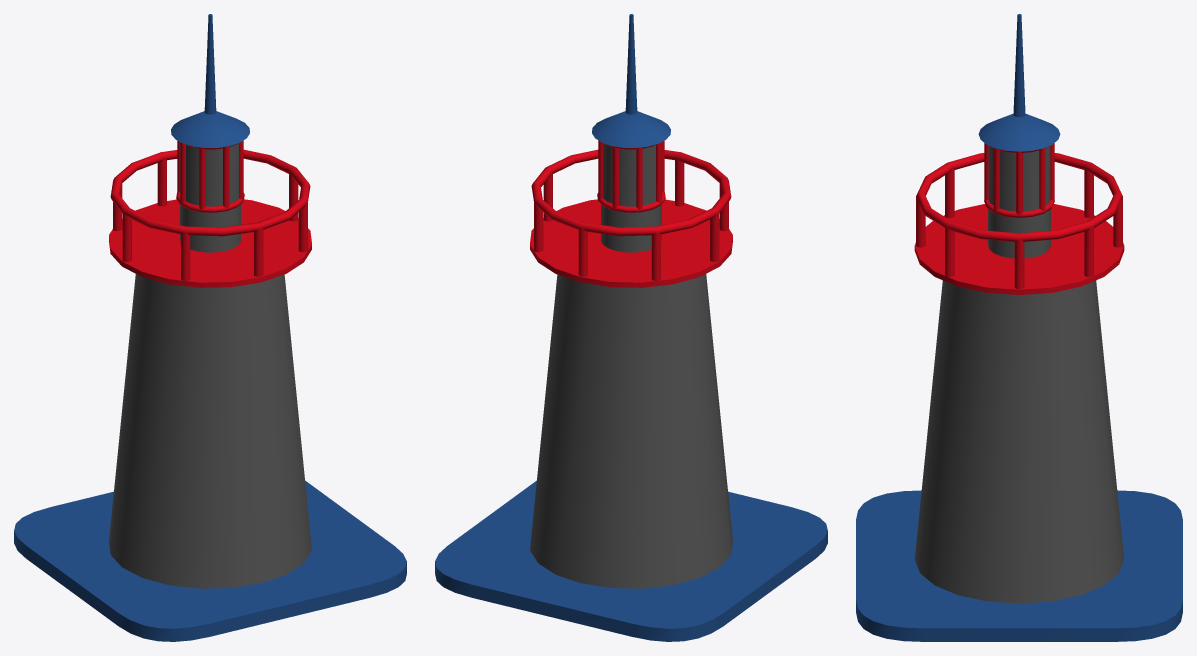
File: Lighthouses.glb
3 views of the same model, side by side, from view 1: azimuth 30°, elevation 25°; view 2: azimuth 150°, elevation 25°; view 3: azimuth 270°, elevation 25° (orthographic). The views are drawn at different scales.
Parts seen in each view (by area): view 1: Root; view 2: Root; view 3: Root.
Part boxes in pixels (x1,y1,x2,y2): Root: [14, 14, 406, 641]; Root: [435, 14, 827, 641]; Root: [856, 14, 1182, 641].
Size of the model in its own units: 4.58 by 8.63 by 4.58.
